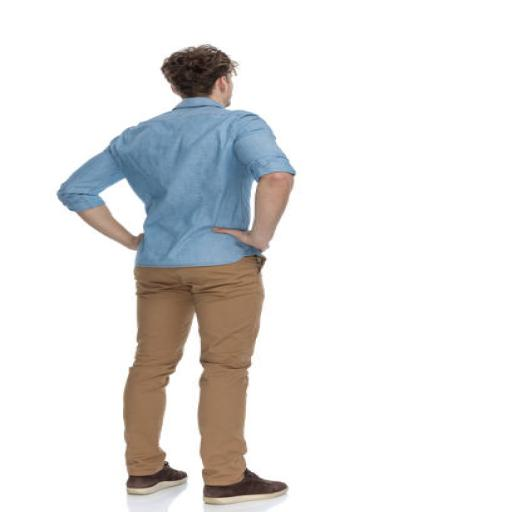person: (57, 44, 296, 504)
